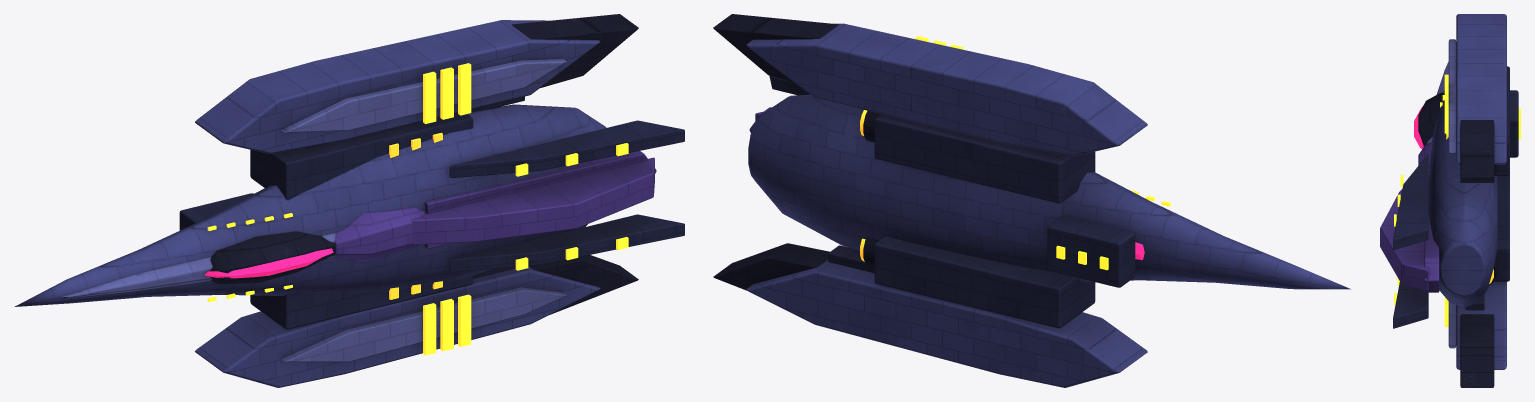
File: enemy.glb
The picture shows the model from 3 angles, left to right: view 1: azimuth 30°, elevation 25°; view 2: azimuth 150°, elevation 25°; view 3: azimuth 270°, elevation 25°; orthographic projection. The views are drawn at different scales.
Parts seen in each view (by area): view 1: Fuselage, Pylon1, Pylon-1, DorsalFin, Nacelle1, PylonRidge1, PylonRidge-1, Spire-1, Spire1, Nacelle-1, CanopyFrame, PylonTip1 (+7 smaller); view 2: Fuselage, Pylon1, Pylon-1, Nacelle-1, Nacelle1, GunPod, PylonTip1, PylonTip-1, WingStub-1; view 3: Fuselage, Pylon1, DorsalFin, PylonTip-1, Spire1, PylonTip1, Pylon-1, Nacelle-1, Spire-1, PylonRidge1, CanopyFrame, GunPod (+8 smaller).
Boxes of the visible parts, <box> form: Fuselage: <box>14,104,606,306</box>; Pylon1: <box>195,20,600,153</box>; Pylon-1: <box>195,266,600,387</box>; DorsalFin: <box>410,151,656,248</box>; Nacelle1: <box>250,113,473,200</box>; PylonRidge1: <box>281,59,566,132</box>; PylonRidge-1: <box>281,287,566,361</box>; Spire-1: <box>449,214,684,271</box>; Spire1: <box>449,120,684,177</box>; Nacelle-1: <box>250,275,473,329</box>; CanopyFrame: <box>209,231,335,284</box>; PylonTip1: <box>512,14,638,87</box>; Fuselage: <box>748,94,1350,289</box>; Pylon1: <box>746,23,1147,156</box>; Pylon-1: <box>746,259,1147,387</box>; Nacelle-1: <box>874,236,1095,328</box>; Nacelle1: <box>874,114,1095,203</box>; GunPod: <box>1047,215,1135,287</box>; PylonTip1: <box>713,14,838,82</box>; PylonTip-1: <box>713,243,829,290</box>; WingStub-1: <box>828,245,874,273</box>; Fuselage: <box>1428,90,1497,307</box>; Pylon1: <box>1456,14,1506,164</box>; DorsalFin: <box>1380,168,1439,292</box>; PylonTip-1: <box>1460,314,1494,387</box>; Spire1: <box>1393,154,1428,250</box>; PylonTip1: <box>1460,120,1494,182</box>; Pylon-1: <box>1456,281,1506,369</box>; Nacelle-1: <box>1494,175,1509,281</box>; Spire-1: <box>1393,282,1428,328</box>; PylonRidge1: <box>1448,39,1456,152</box>; CanopyFrame: <box>1418,92,1443,146</box>; GunPod: <box>1510,90,1518,157</box>.
Bounding box in the file's own units: 28.79 × 12.8 × 6.66.
Materials: 23 (20 with a texture image).
